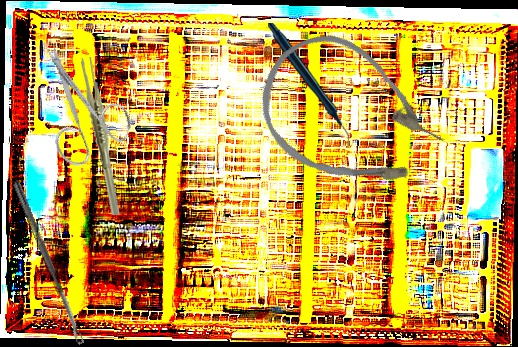Cannula: (237, 14, 463, 221)
Handpiece: (265, 23, 352, 143)
Iris Scissors: (5, 40, 150, 181)
Surgical Spoon: (10, 178, 85, 346)
Tissue Forceps: (80, 57, 121, 215)
